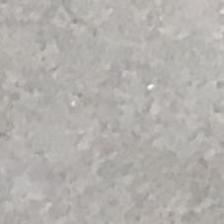Non_Crack: (33, 33, 198, 188)
